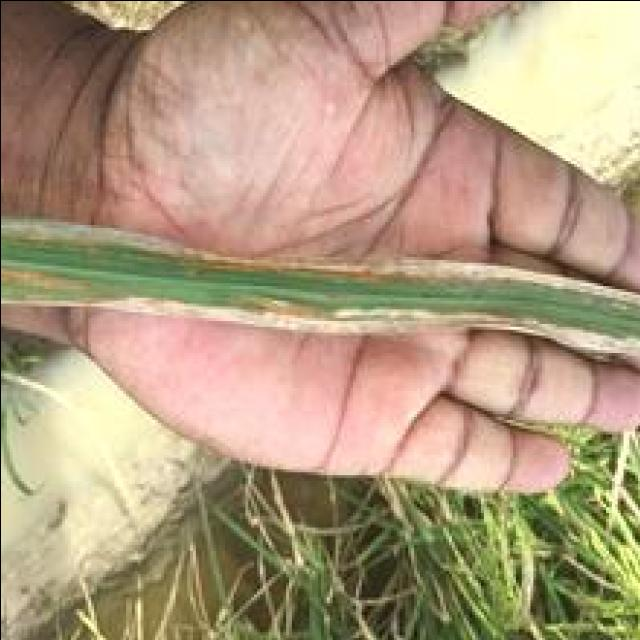Bacterial_Leaf_Blight: (8, 239, 640, 350)
